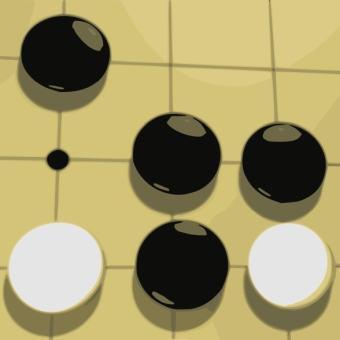black: (135, 219, 230, 311), (132, 111, 222, 196), (19, 13, 112, 94), (241, 120, 329, 204)
crossing: (157, 51, 188, 81), (261, 55, 290, 84)
white: (8, 221, 105, 314), (245, 222, 334, 312)
